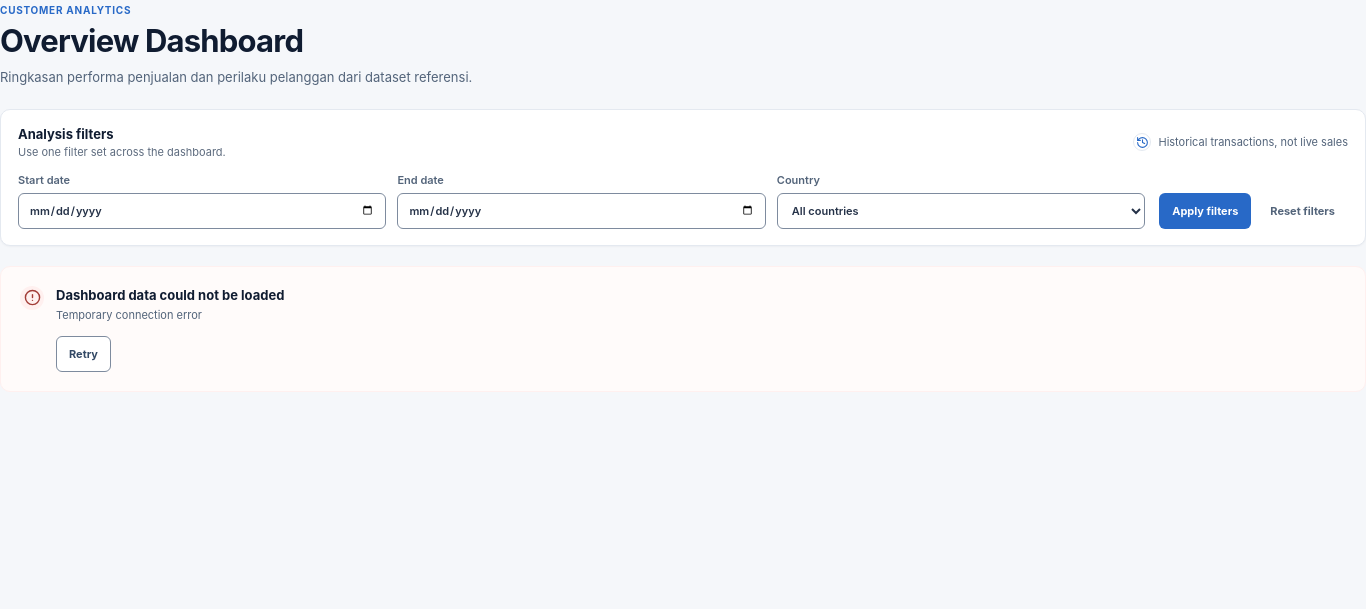
Test case: OverviewPage › retries a failed request without changing the source mode
Expected: the text "Temporary connection error" is shown, top-left (56, 308), bottom-right (202, 322)
What coordinates should you click on to do the following:
click the button "Retry"
I would click on:
 (84, 354)
Its box is top-left (56, 336), bottom-right (111, 372).
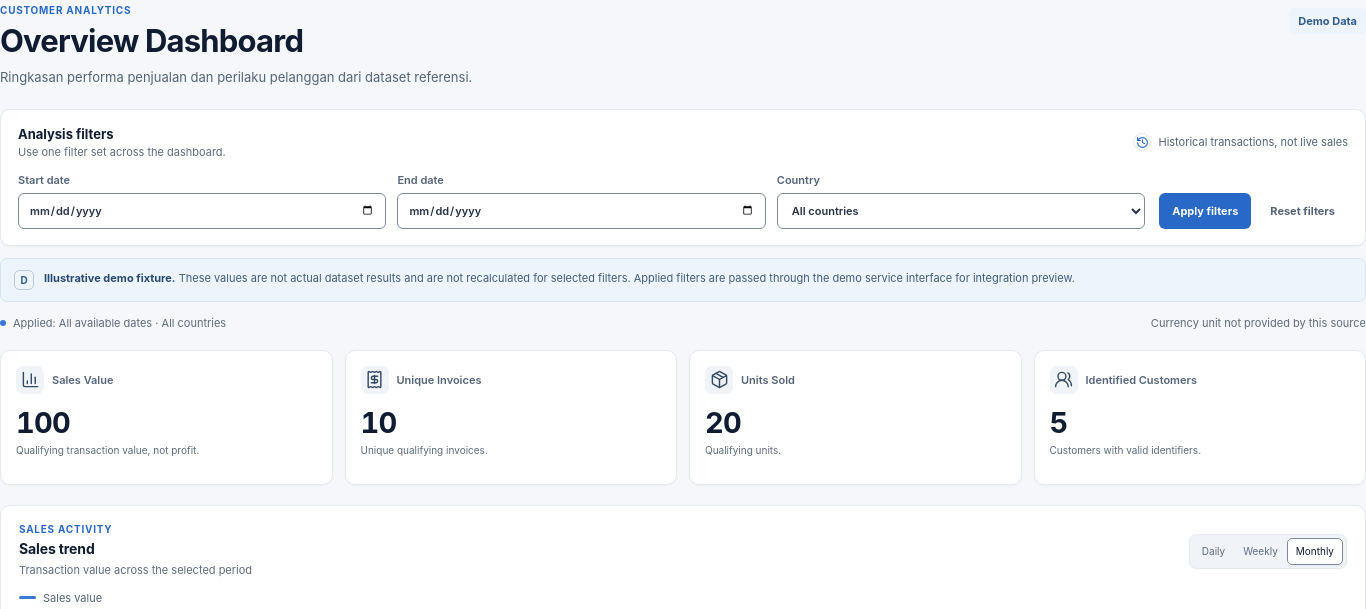
Expected: the text "Demo Data" is shown, top-left (1289, 8), bottom-right (1365, 34)
